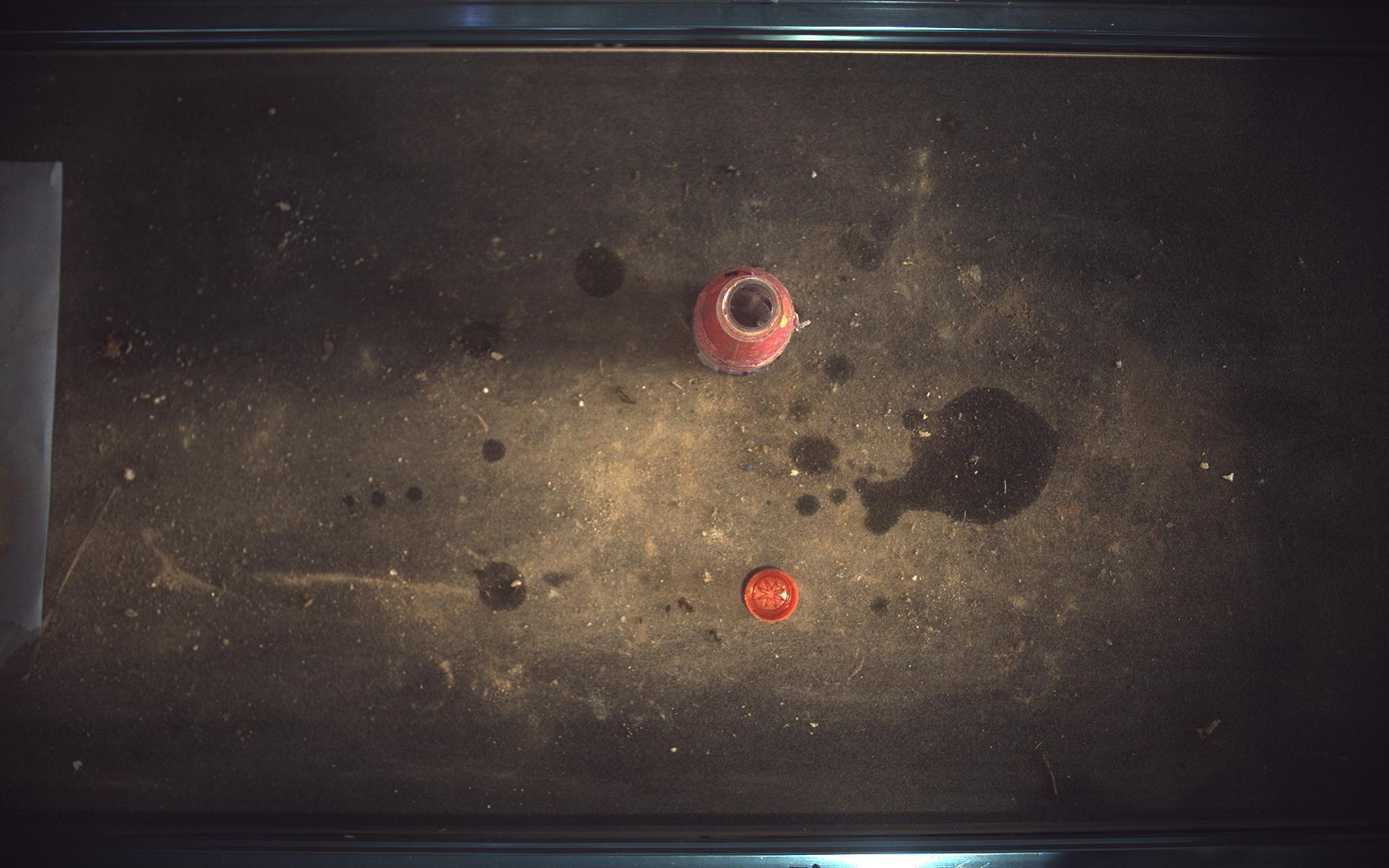general_w: (694, 266, 811, 375), (744, 569, 801, 624)
